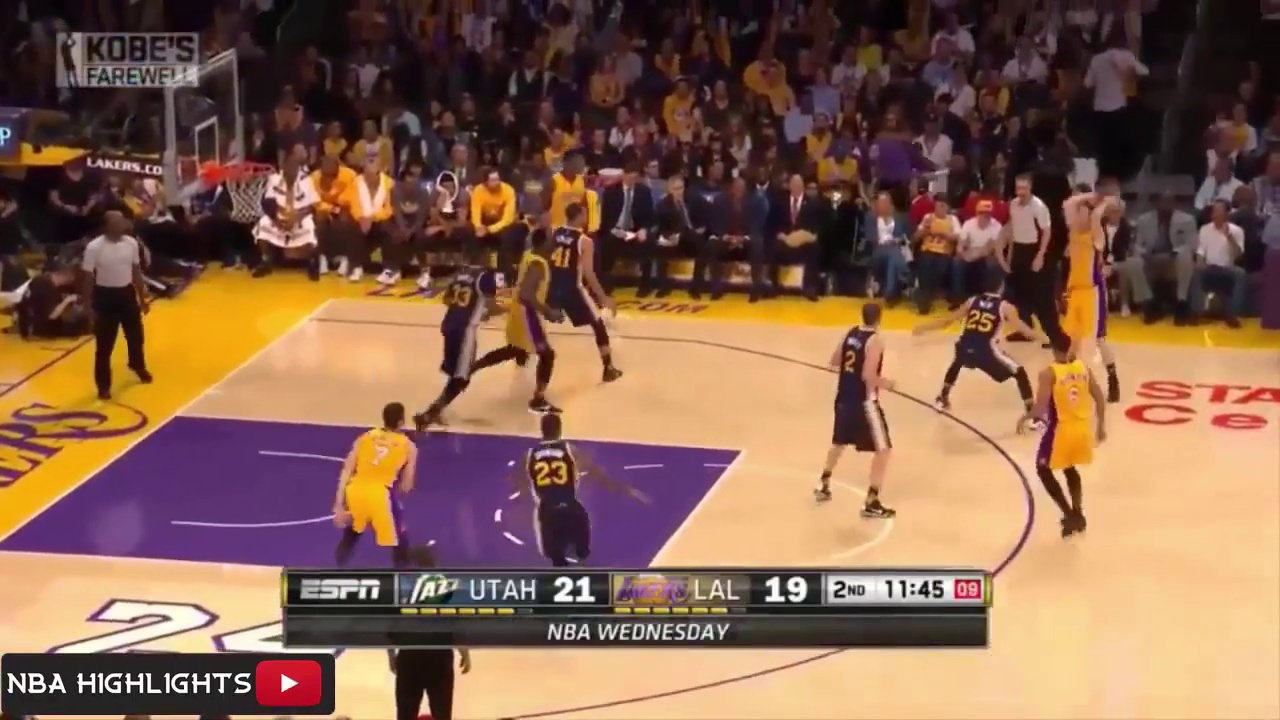jazz: (812, 296, 902, 526), (421, 234, 505, 430), (511, 411, 614, 568), (920, 280, 1034, 419), (551, 206, 622, 380)
lakers: (336, 394, 425, 571), (1029, 327, 1100, 540), (484, 233, 561, 412), (1061, 185, 1122, 401), (549, 151, 590, 240)
